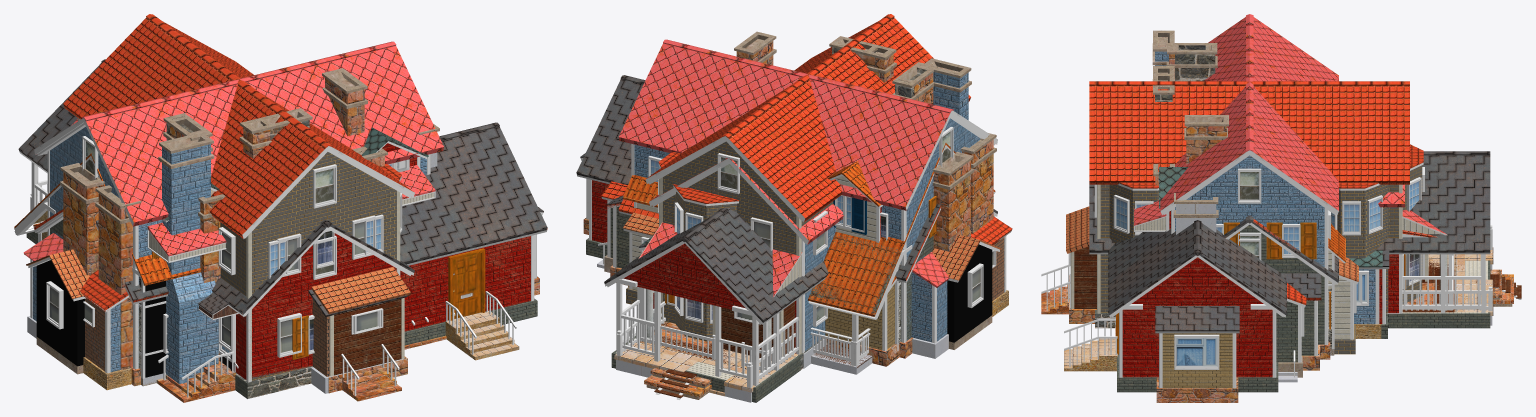
The model's file is 01.House Pack.fbx.
3 views of the same model, side by side, from view 1: azimuth 30°, elevation 25°; view 2: azimuth 150°, elevation 25°; view 3: azimuth 270°, elevation 25° (orthographic). The views are drawn at different scales.
Visible parts, largest first — view 1: House; view 2: House; view 3: House.
Part boxes in pixels (left/top/right/bottom): House: left=14, top=14, right=547, bottom=402; House: left=576, top=14, right=1012, bottom=402; House: left=1041, top=14, right=1521, bottom=402.
Bounding box in the file's own units: 1895 × 978 × 2002.
